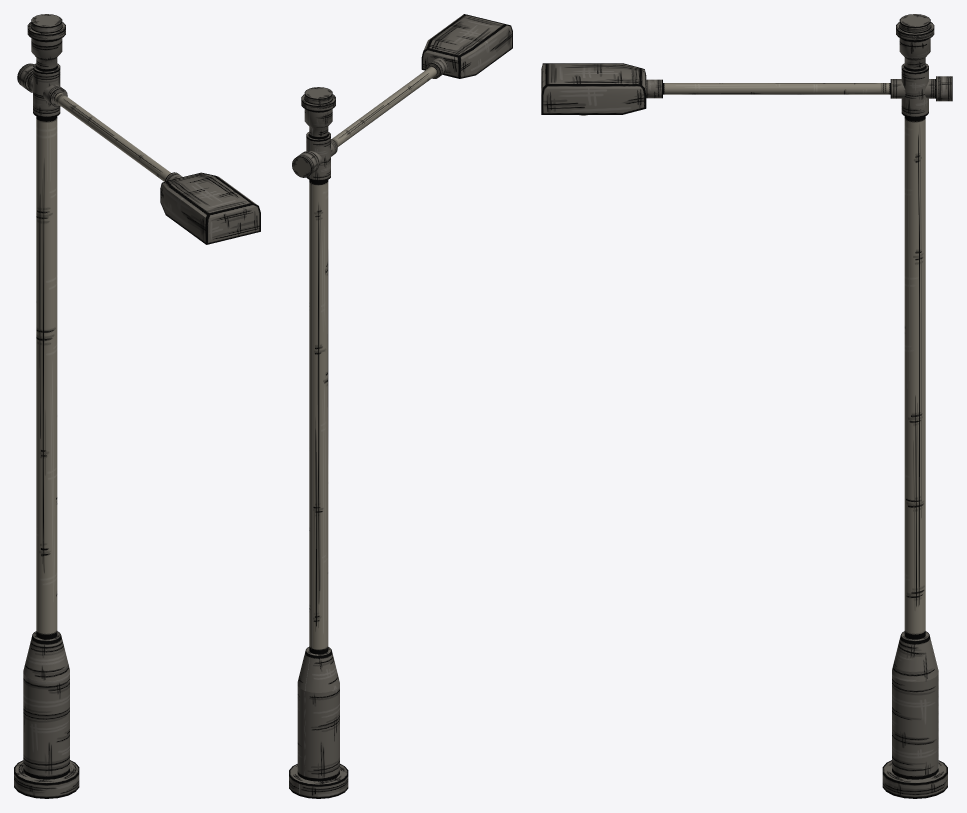
Rendered from StreetLight11.FBX.
3 views of the same model, side by side, from view 1: azimuth 30°, elevation 25°; view 2: azimuth 150°, elevation 25°; view 3: azimuth 270°, elevation 25° (orthographic). The views are drawn at different scales.
Parts seen in each view (by area): view 1: Box069; view 2: Box069; view 3: Box069.
Part boxes in pixels (x1,y1,x2,y2): Box069: (14,14,260,798); Box069: (289,14,512,798); Box069: (541,14,952,798).
Size of the model in its own units: 38.87 by 495 by 241.
